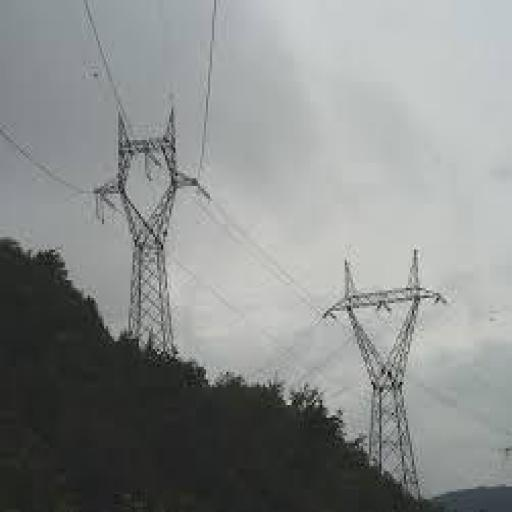wt_5: (96, 112, 200, 359)
wt_6: (324, 247, 445, 499)
